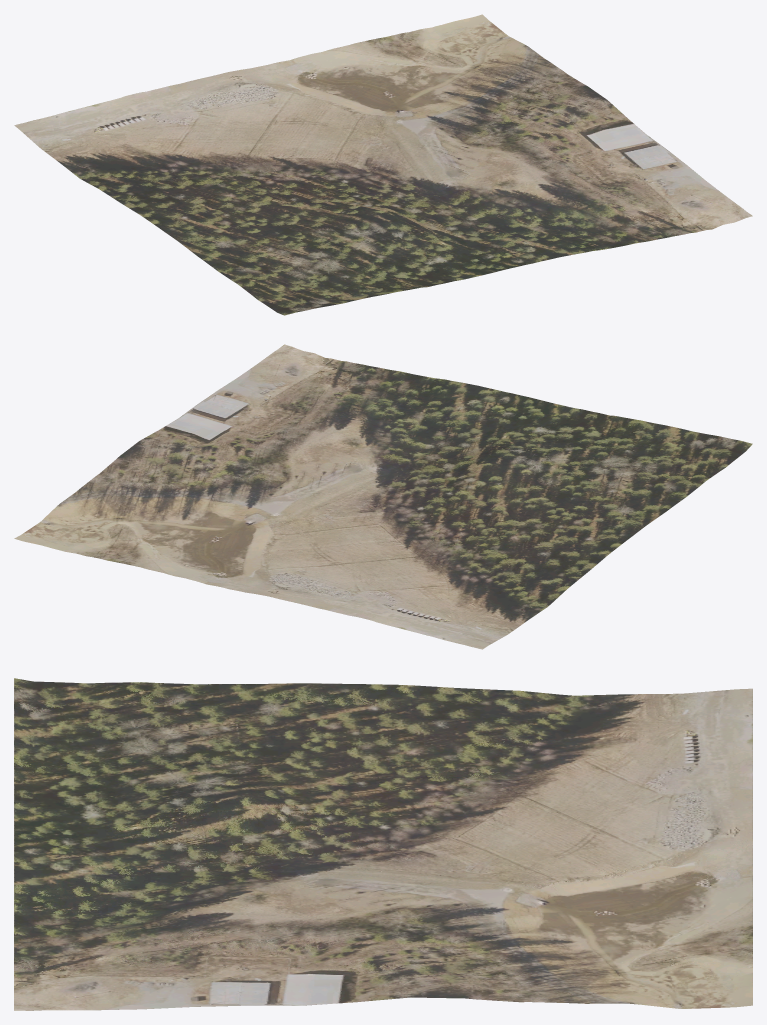
Rendered from CM_Terrain_24493326_6815698.fbx.
3 views of the same model, one above another, from view 1: azimuth 30°, elevation 25°; view 2: azimuth 150°, elevation 25°; view 3: azimuth 270°, elevation 25° (orthographic). The views are drawn at different scales.
Parts seen in each view (by area): view 1: CM_Terrain_24493326_6815698_LOD0; view 2: CM_Terrain_24493326_6815698_LOD0; view 3: CM_Terrain_24493326_6815698_LOD0.
Boxes of the visible parts, <box> form: CM_Terrain_24493326_6815698_LOD0: <box>14,14,752,315</box>; CM_Terrain_24493326_6815698_LOD0: <box>14,344,752,649</box>; CM_Terrain_24493326_6815698_LOD0: <box>14,678,752,1010</box>.
Size of what is drawn, in the model's own units: 205 by 7.75 by 205.
